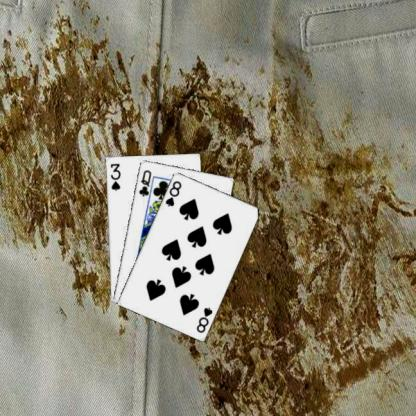3S: (108, 160, 122, 192)
8S: (193, 304, 214, 334), (162, 178, 183, 207)
QC: (136, 167, 152, 198)
